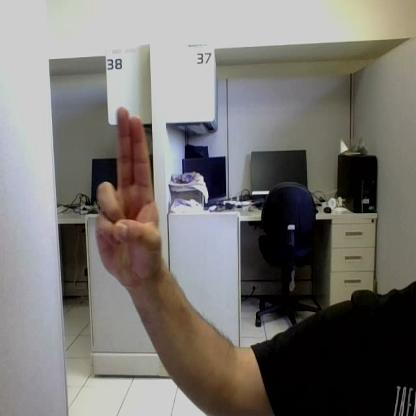U: (96, 108, 161, 280)
